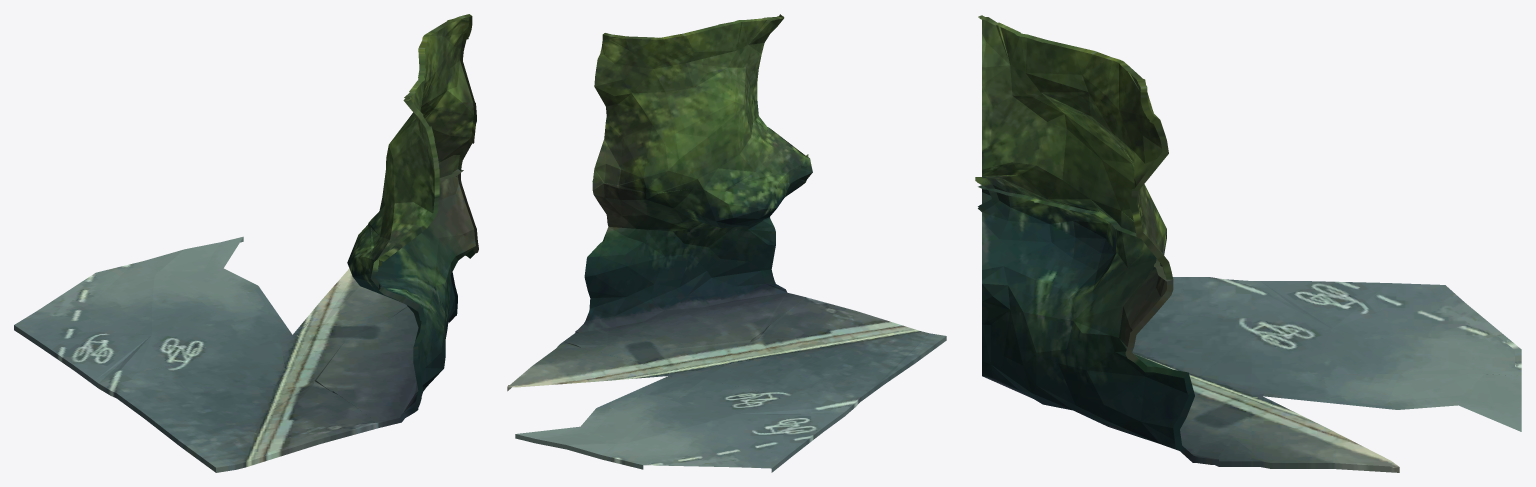
The model's file is BuildingMesh-00029.gltf.
The picture shows the model from 3 angles, left to right: view 1: azimuth 30°, elevation 25°; view 2: azimuth 150°, elevation 25°; view 3: azimuth 270°, elevation 25°; orthographic projection. The views are drawn at different scales.
Visible parts, largest first — view 1: BuildingMesh-00029; view 2: BuildingMesh-00029; view 3: BuildingMesh-00029.
Boxes of the visible parts, box(x1,y1,x2,y2) form: BuildingMesh-00029: box(14, 14, 478, 472); BuildingMesh-00029: box(507, 14, 946, 472); BuildingMesh-00029: box(975, 15, 1521, 472).
Bounding box in the file's own units: 0.7843 × 0.7647 × 0.9843.
Materials: 1 (1 with a texture image).
